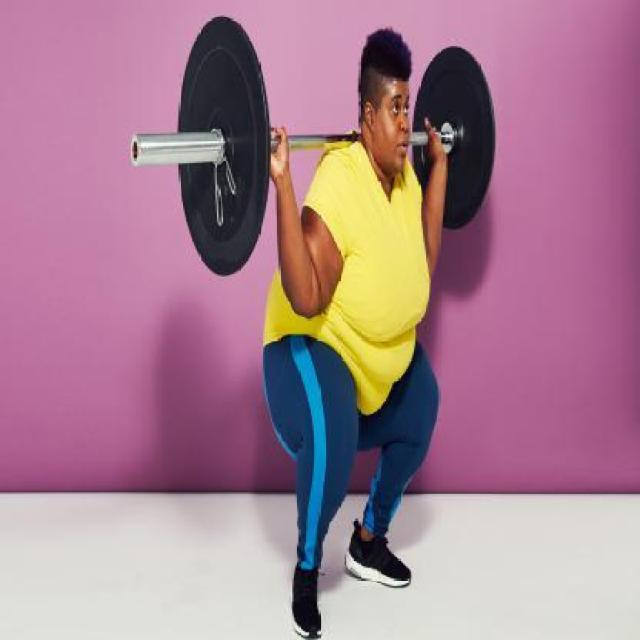barbell: (130, 12, 272, 278)
